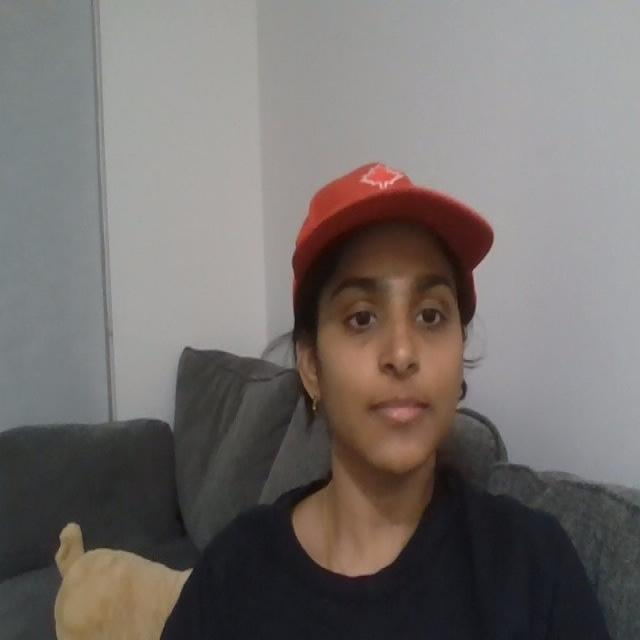Hat: (272, 147, 507, 289)
